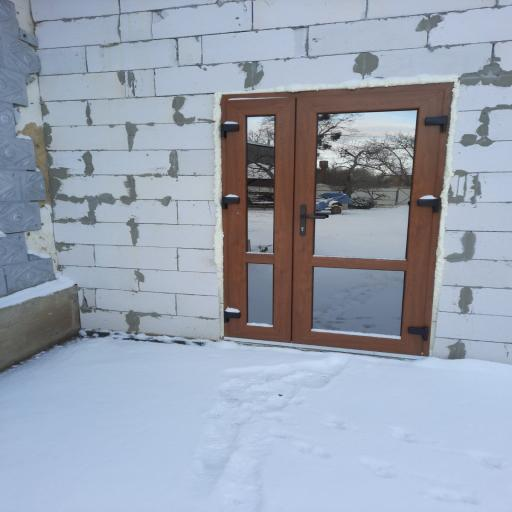child: (221, 83, 453, 356)
